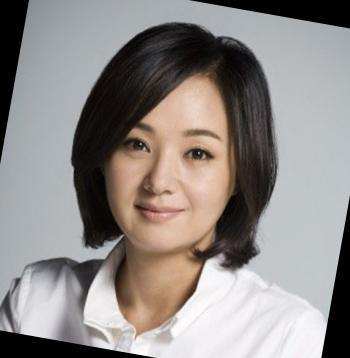Sober: (113, 83, 226, 246)
